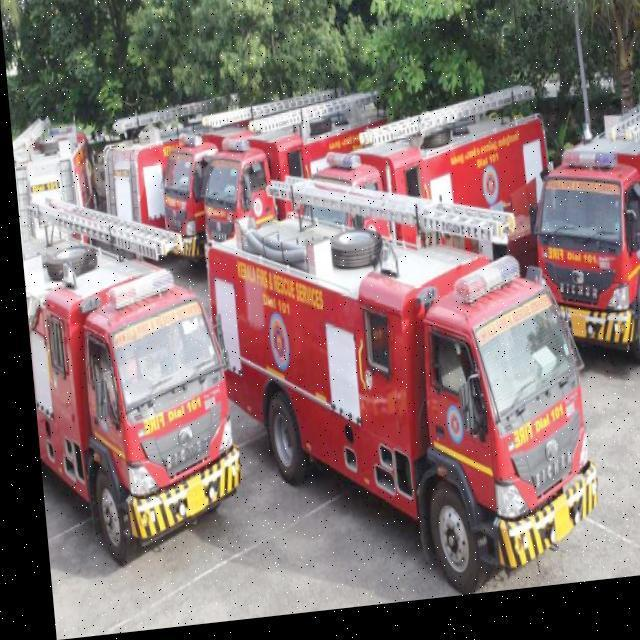Ambulance: (11, 62, 640, 632), (193, 164, 595, 622), (18, 223, 238, 576), (517, 112, 640, 392), (191, 138, 275, 258), (152, 134, 224, 274)
